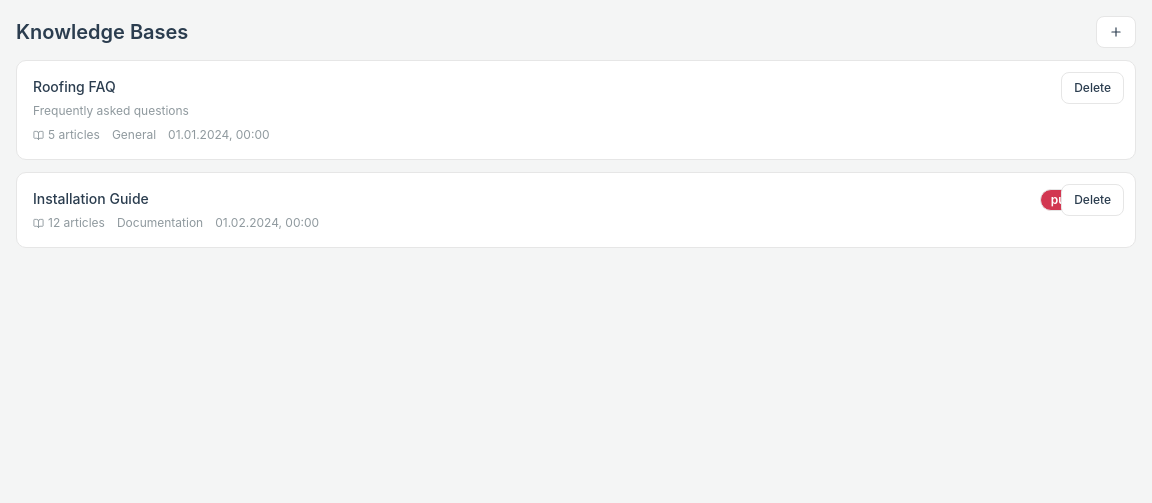
Test: MobileKnowledgeBases › shows mobile-kb-create-error when createMutation.isError is true
Click the button with test id "mobile-kb-create-button": (1116, 32) [1096,16,1136,48]
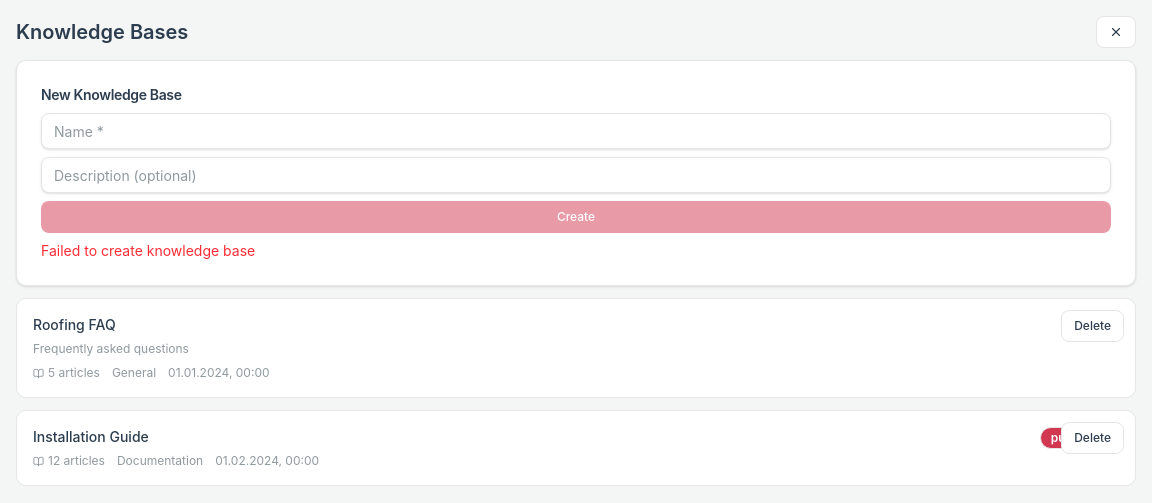
Expected: the text with test id "mobile-kb-create-error" reads "Failed to create knowledge base", [41,242,255,259]
